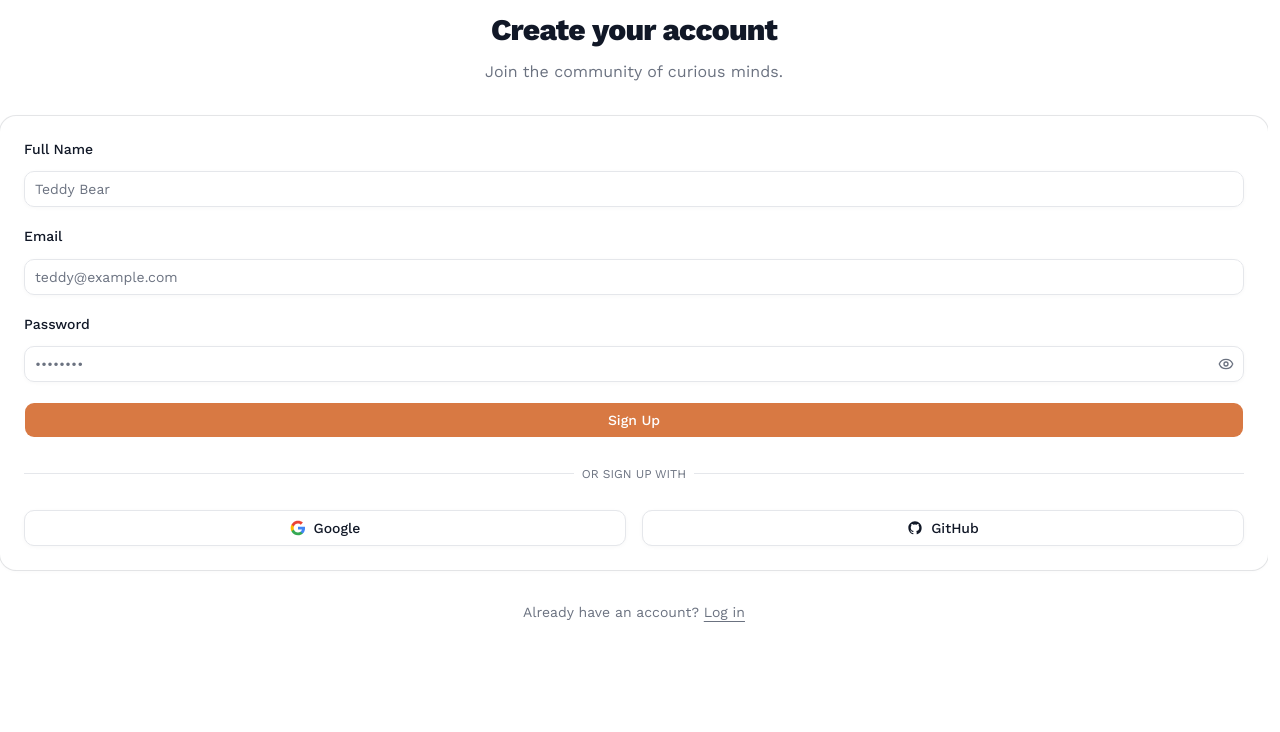
Test case: SignUpPage › shows validation error for short name
Type "ab" into the field labelled "Full Name" at (634, 189), box [24,171,1244,207]
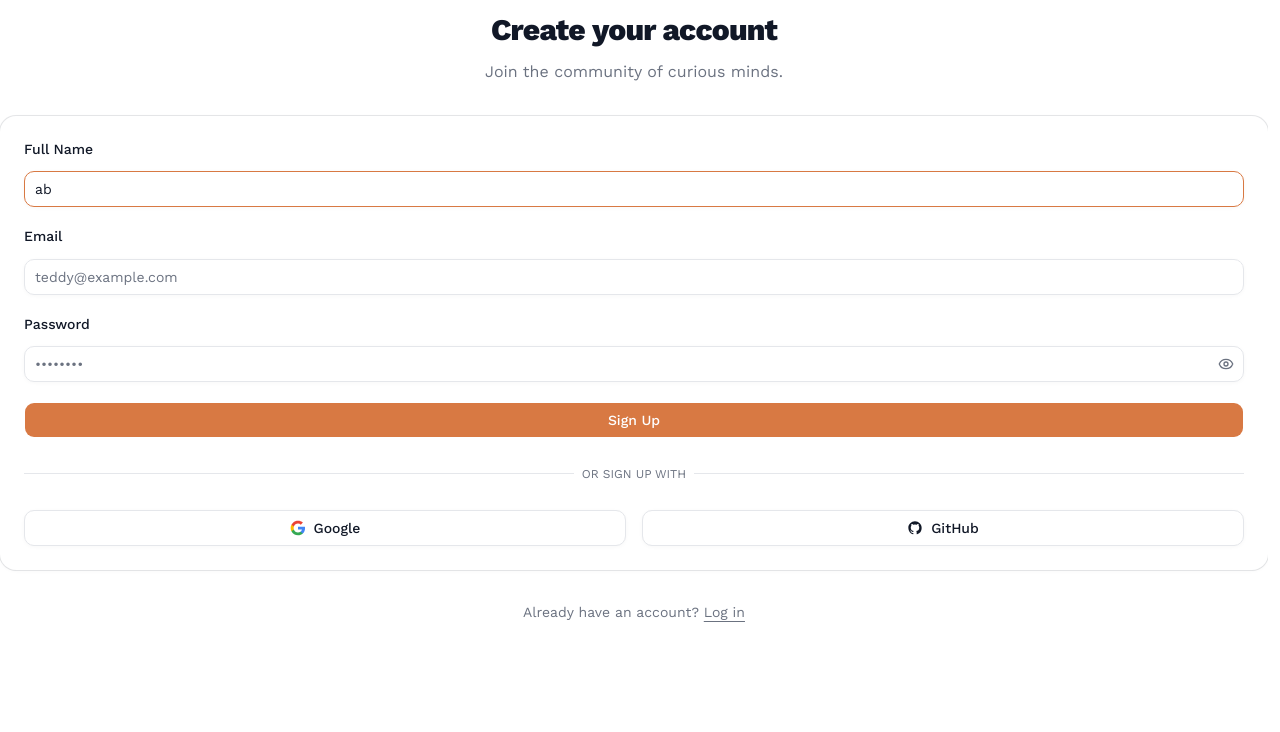
Type "jane@example.com" into the field labelled "Email" at (634, 276), box [24,258,1244,294]
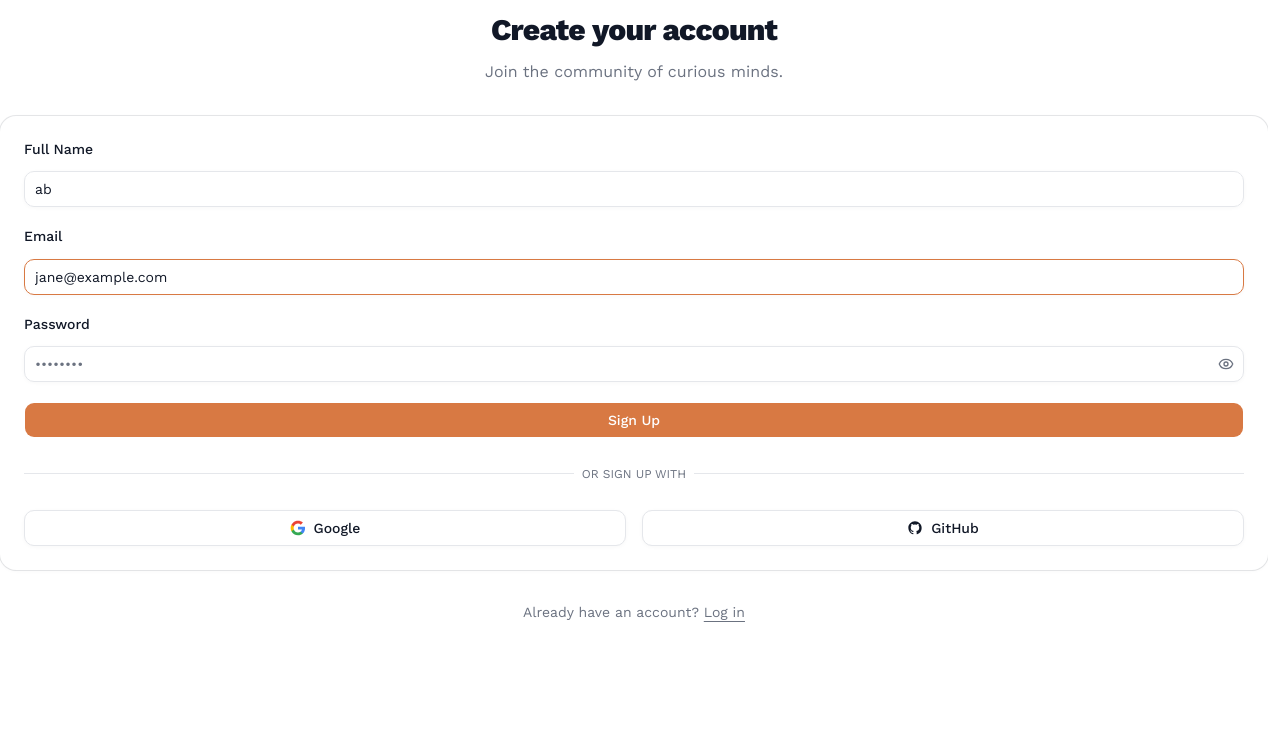
Type "password123" into the password field labelled "Password" at (634, 364), box [24,346,1244,382]
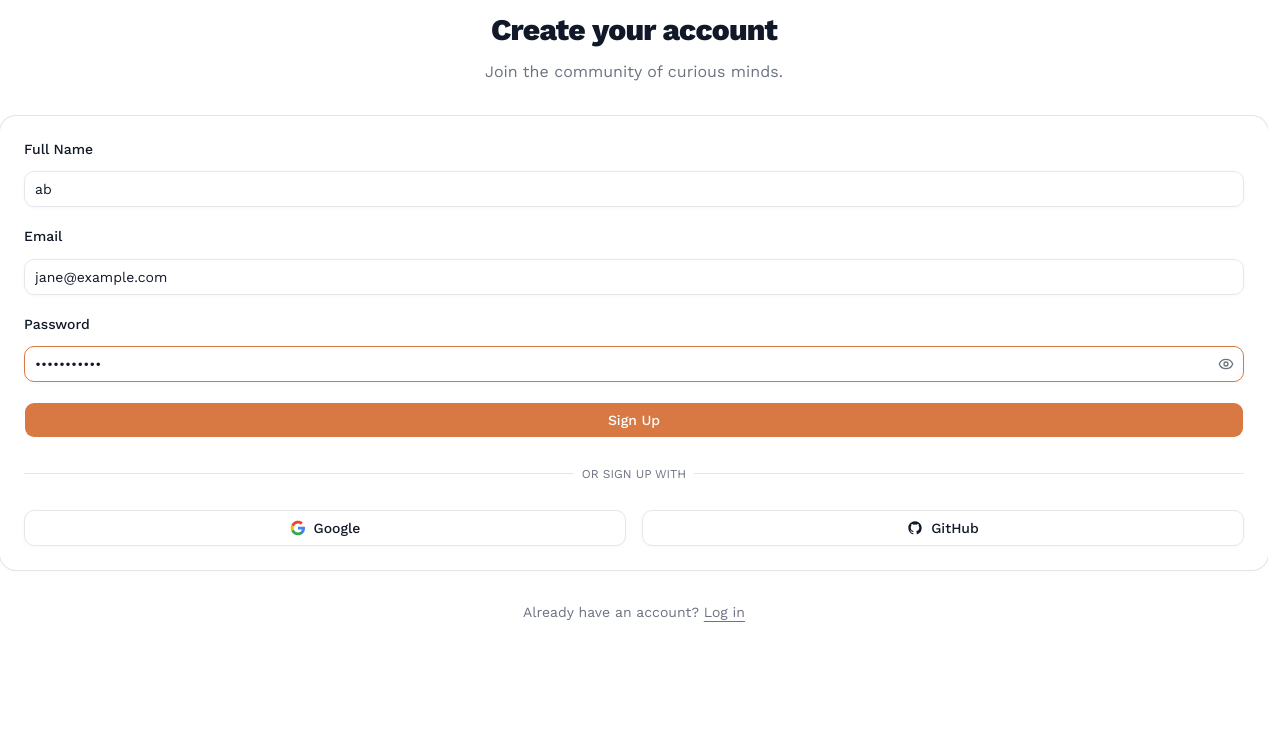
Click the button "Sign Up" at (634, 420), box [24,402,1244,438]
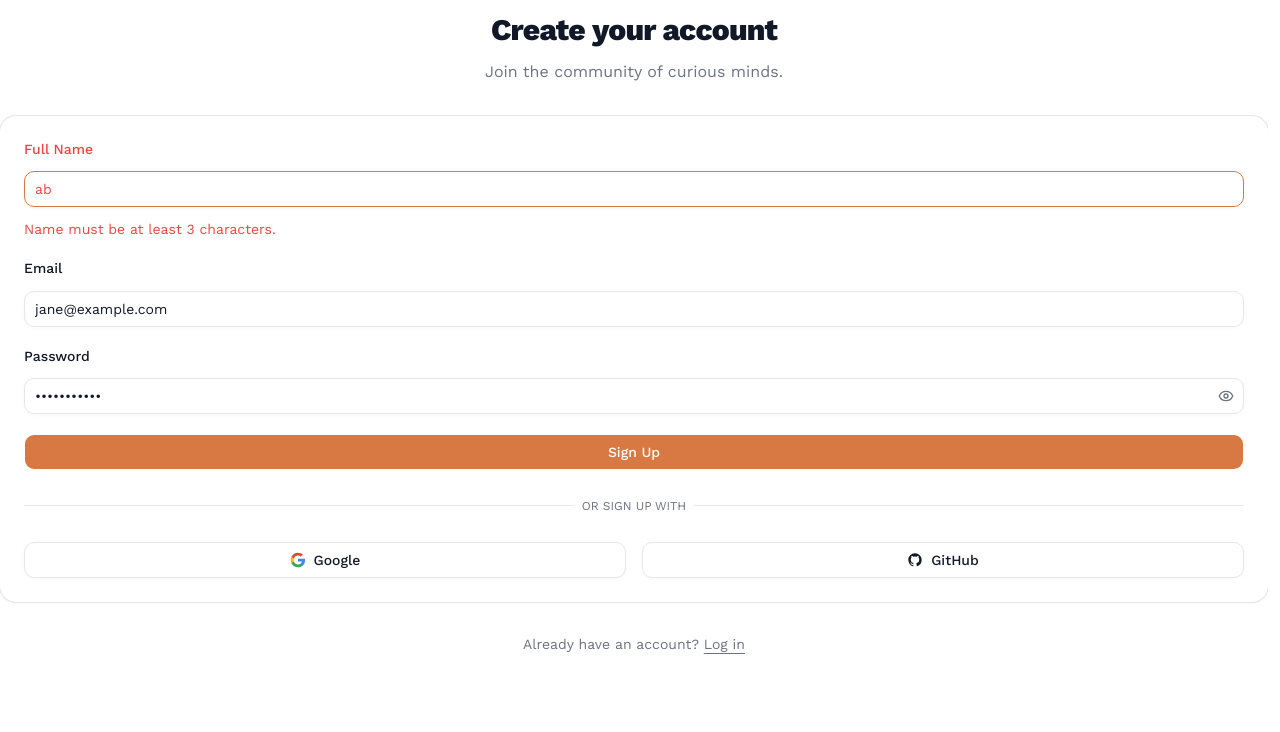
Result: the text "Name must be at least 3 characters." is shown at [24,221,276,237]
